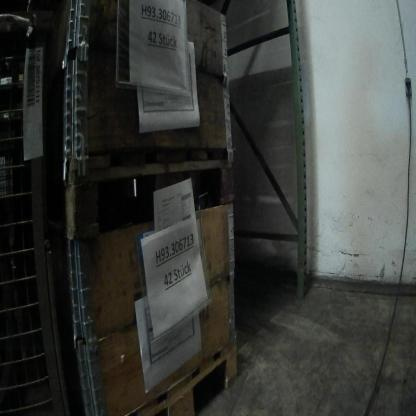pallets: (121, 340, 239, 415)
